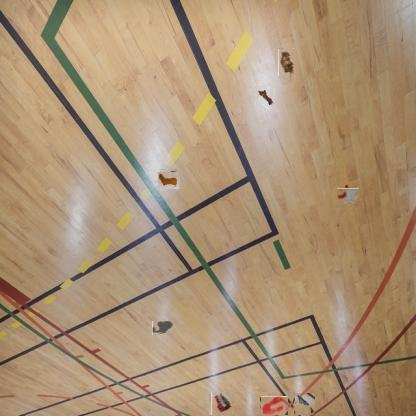dirty: (210, 393, 233, 416), (293, 394, 315, 416), (278, 48, 295, 76), (160, 170, 180, 191), (255, 86, 275, 107), (340, 186, 357, 203)
liquid: (260, 396, 288, 415), (152, 321, 173, 335)
